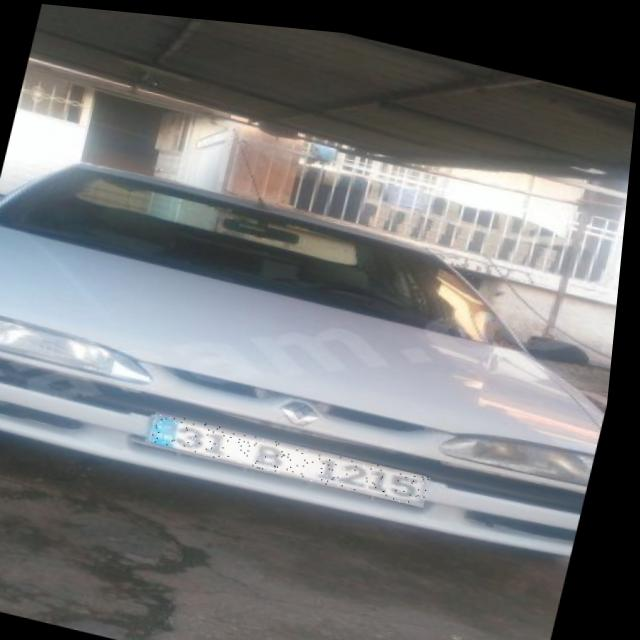license_plate: (154, 407, 442, 499)
